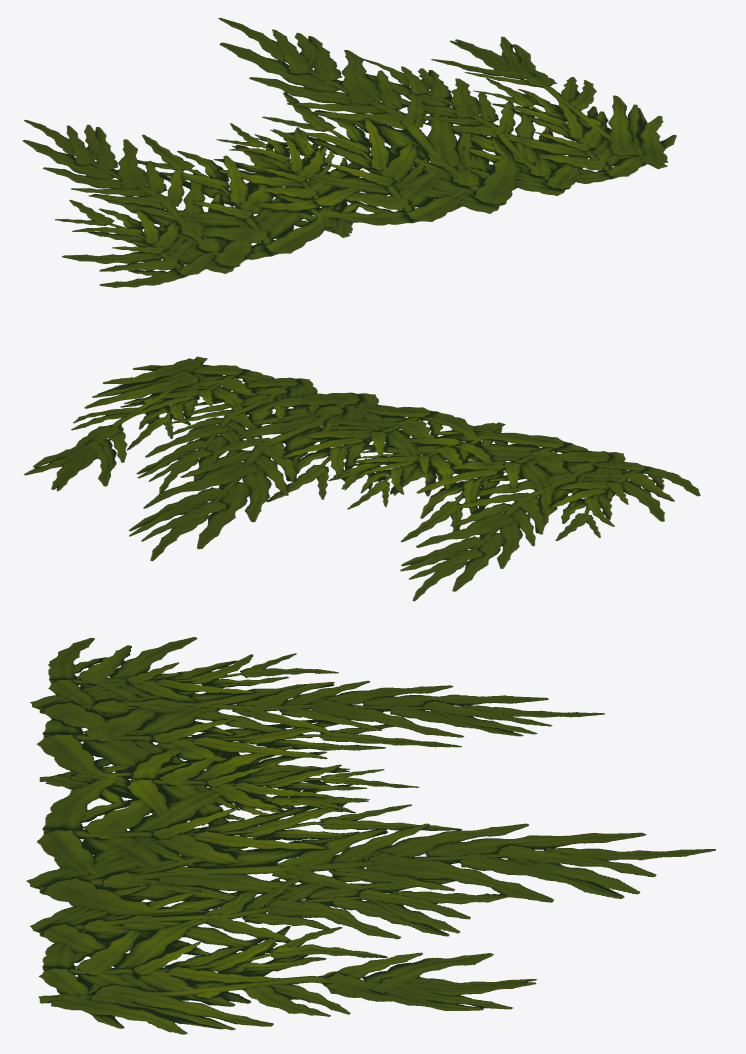
The model's file is mossHorizontal_lowPolyTestExport.fbx.
3 renders of one model, top to bottom at view 1: azimuth 30°, elevation 25°; view 2: azimuth 150°, elevation 25°; view 3: azimuth 270°, elevation 25°, orthographic. The views are drawn at different scales.
Parts seen in each view (by area): view 1: Horizontal_TestUV_Plane1; view 2: Horizontal_TestUV_Plane1; view 3: Horizontal_TestUV_Plane1.
Boxes of the visible parts, <box> form: Horizontal_TestUV_Plane1: <box>22,17,676,287</box>; Horizontal_TestUV_Plane1: <box>24,356,700,601</box>; Horizontal_TestUV_Plane1: <box>26,637,715,1034</box>.
Size of the model in its own units: 53.58 by 1.56 by 40.31.
Materials: 1 (1 with a texture image).
